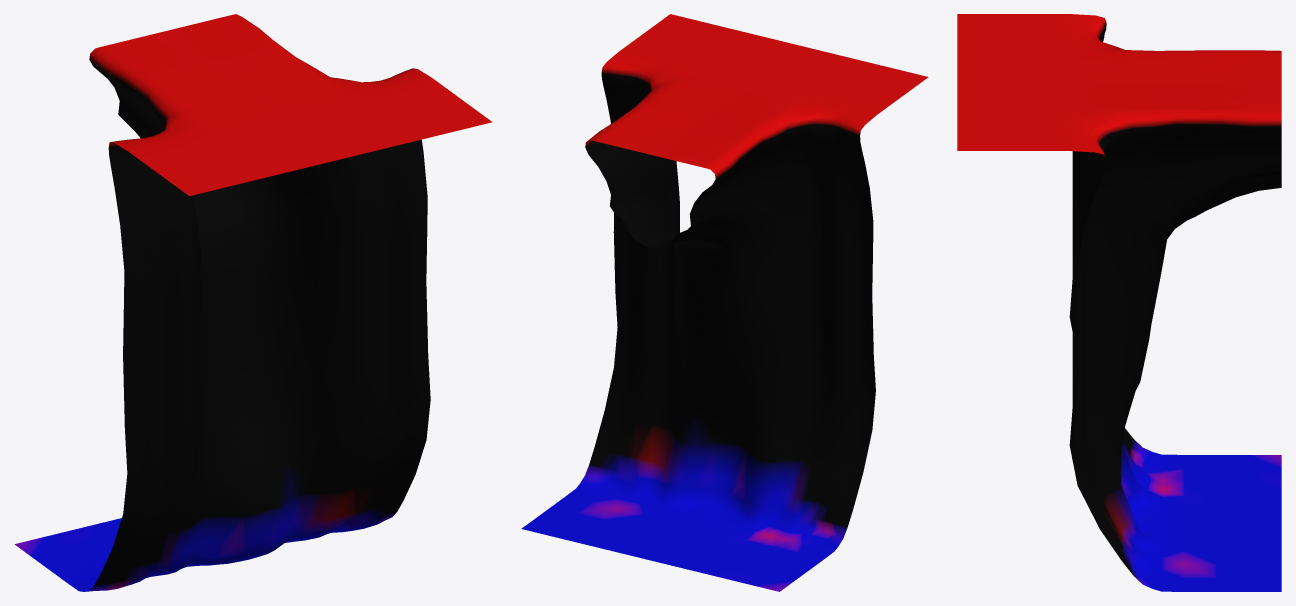
File: CrossingCliff03A 3M for Water Foreground.fbx
3 renders of one model, left to right at view 1: azimuth 30°, elevation 25°; view 2: azimuth 150°, elevation 25°; view 3: azimuth 270°, elevation 25°, orthographic. The views are drawn at different scales.
Parts seen in each view (by area): view 1: CrossingCliff03A 3M for Water Foreground; view 2: CrossingCliff03A 3M for Water Foreground; view 3: CrossingCliff03A 3M for Water Foreground.
Boxes of the visible parts, left/top/right/bottom form: CrossingCliff03A 3M for Water Foreground: left=14, top=14, right=492, bottom=591; CrossingCliff03A 3M for Water Foreground: left=521, top=14, right=928, bottom=591; CrossingCliff03A 3M for Water Foreground: left=957, top=14, right=1281, bottom=591.
Bounding box in the file's own units: 2 × 3.01 × 2.
